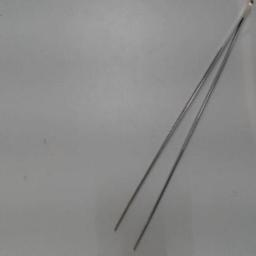DeBakey Dissector: (104, 0, 252, 254)
